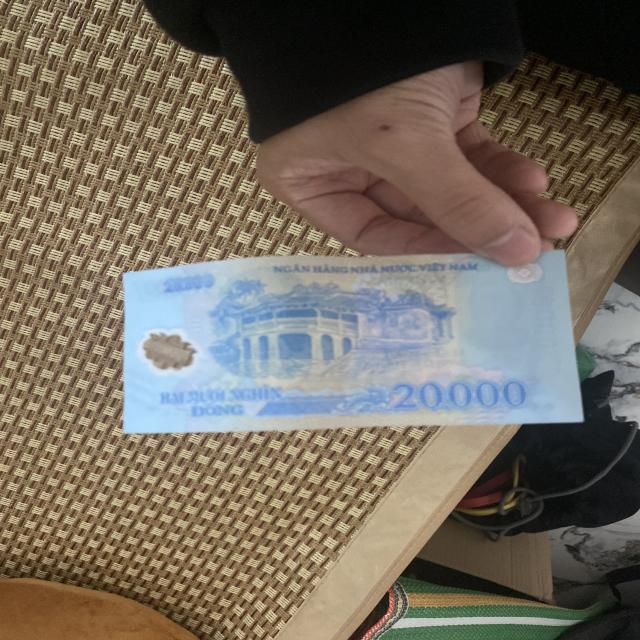20 000 VND: (119, 248, 586, 434)
